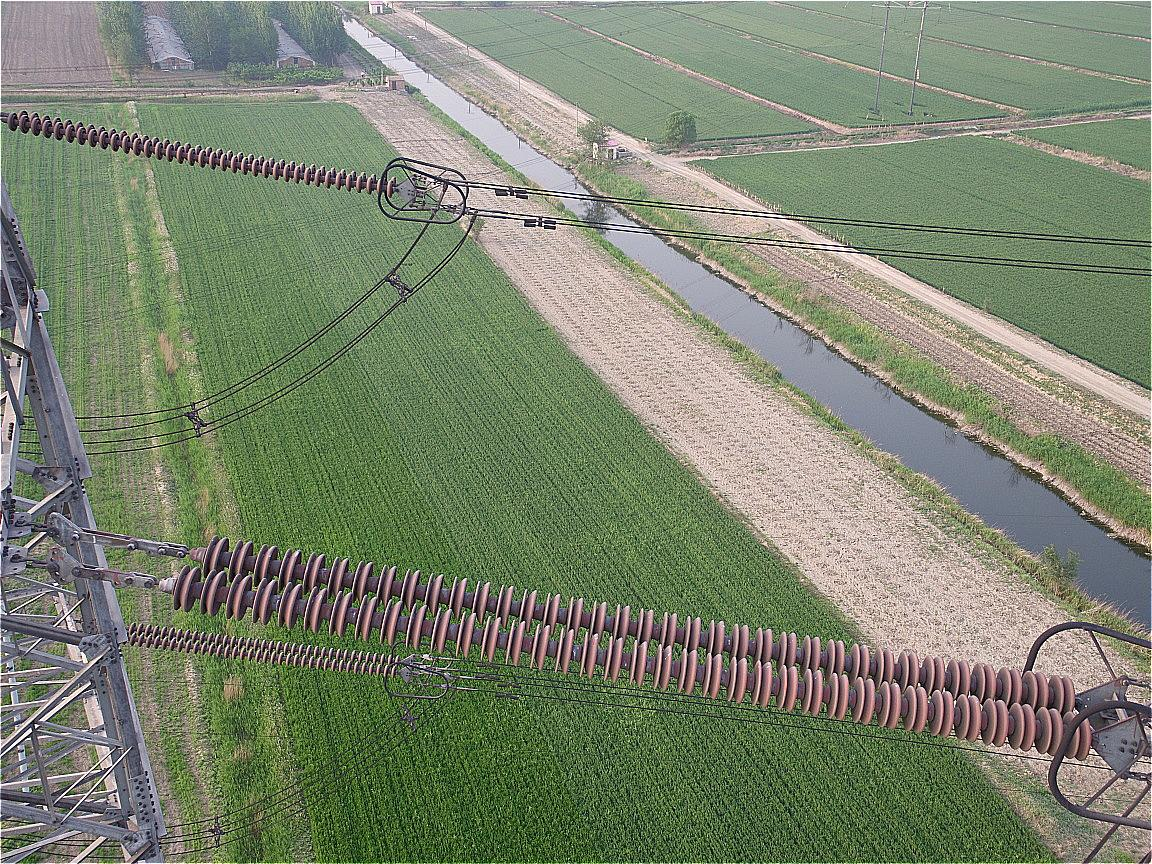insultor1: (8, 106, 396, 195), (128, 621, 400, 682)
insultor2: (172, 533, 1090, 761)
